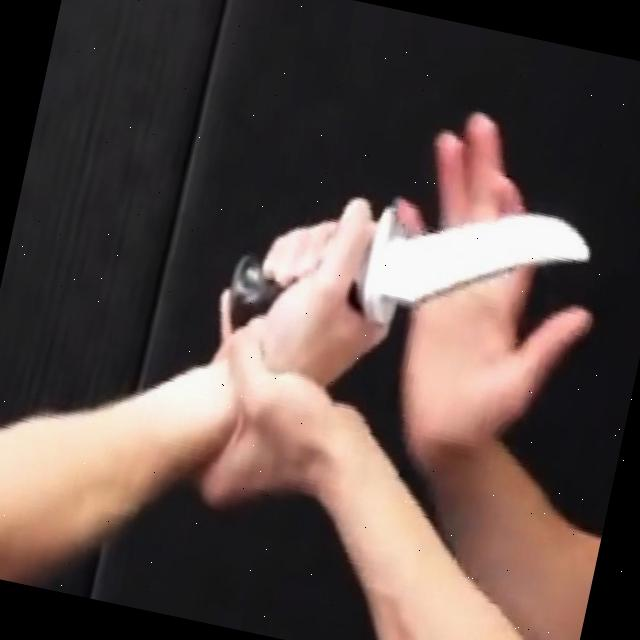suspicion: (0, 98, 607, 640), (352, 176, 602, 370), (219, 241, 286, 332)
